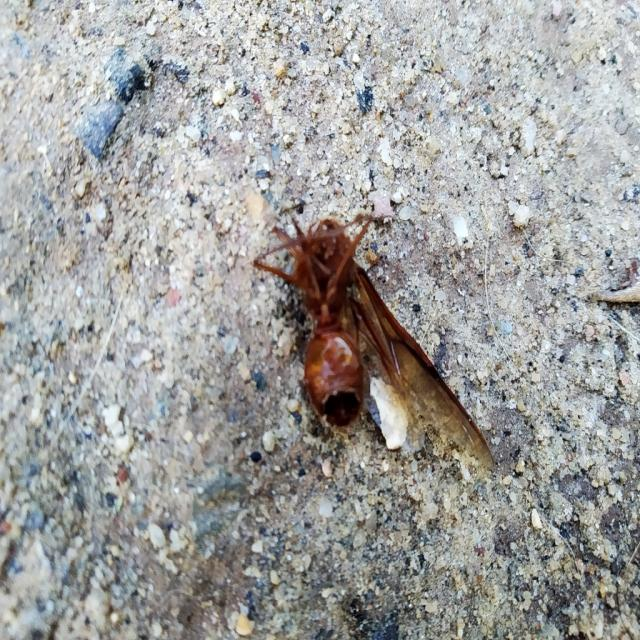Dead-Male-Alate: (253, 214, 495, 467)
